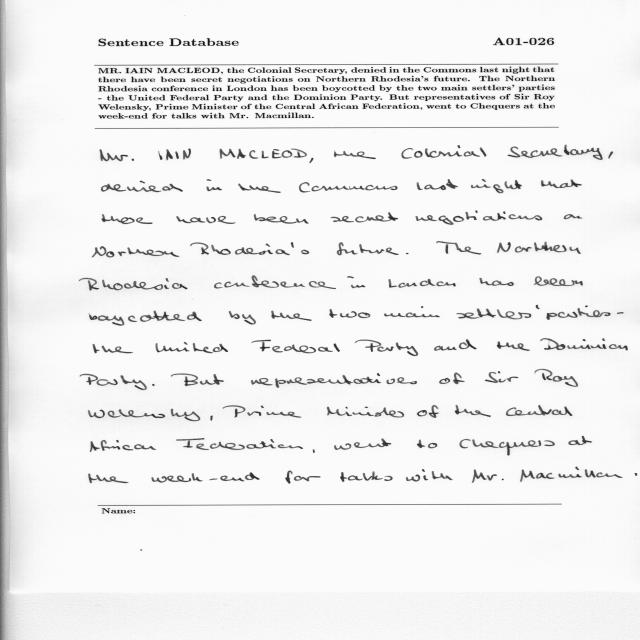word: (251, 373, 417, 388), (416, 211, 543, 225), (89, 311, 202, 326), (214, 276, 336, 289), (190, 242, 309, 255), (459, 439, 555, 455), (520, 467, 622, 482), (176, 438, 303, 450), (508, 145, 603, 160), (89, 409, 201, 421), (79, 278, 188, 290), (151, 472, 260, 483), (402, 145, 487, 159), (457, 305, 540, 319), (251, 340, 340, 353), (299, 182, 398, 193), (80, 374, 147, 390), (355, 339, 418, 356), (223, 405, 302, 418), (497, 242, 581, 254), (219, 148, 307, 159), (540, 339, 628, 350), (547, 305, 611, 320), (93, 246, 180, 257), (101, 181, 183, 192), (327, 407, 404, 418), (337, 242, 399, 255), (155, 342, 228, 353), (534, 369, 578, 387), (91, 440, 157, 452), (331, 212, 398, 223), (506, 405, 573, 416), (471, 179, 522, 193), (334, 438, 391, 450), (384, 306, 440, 318), (171, 374, 224, 386), (406, 469, 453, 482), (389, 279, 456, 288), (437, 242, 482, 255), (340, 471, 393, 482), (254, 214, 309, 224), (434, 339, 477, 351), (102, 214, 153, 224), (534, 276, 583, 286), (177, 216, 236, 224), (286, 471, 321, 484), (417, 179, 458, 190), (472, 469, 504, 483), (455, 405, 491, 417), (238, 183, 281, 193), (271, 311, 312, 321), (100, 150, 134, 162), (89, 474, 129, 484), (158, 149, 191, 161), (485, 371, 518, 383), (329, 309, 371, 318), (93, 344, 133, 353), (229, 311, 256, 324), (334, 151, 376, 159), (497, 341, 530, 351), (541, 180, 582, 188), (439, 373, 465, 384), (417, 405, 439, 418), (479, 278, 514, 286), (348, 276, 366, 288), (569, 436, 593, 445), (207, 179, 222, 191), (417, 440, 437, 448), (564, 214, 582, 219), (608, 152, 613, 159), (310, 158, 314, 163), (210, 416, 213, 421), (617, 312, 623, 314), (313, 449, 315, 453), (152, 384, 155, 386), (635, 473, 637, 476), (406, 253, 409, 254)
